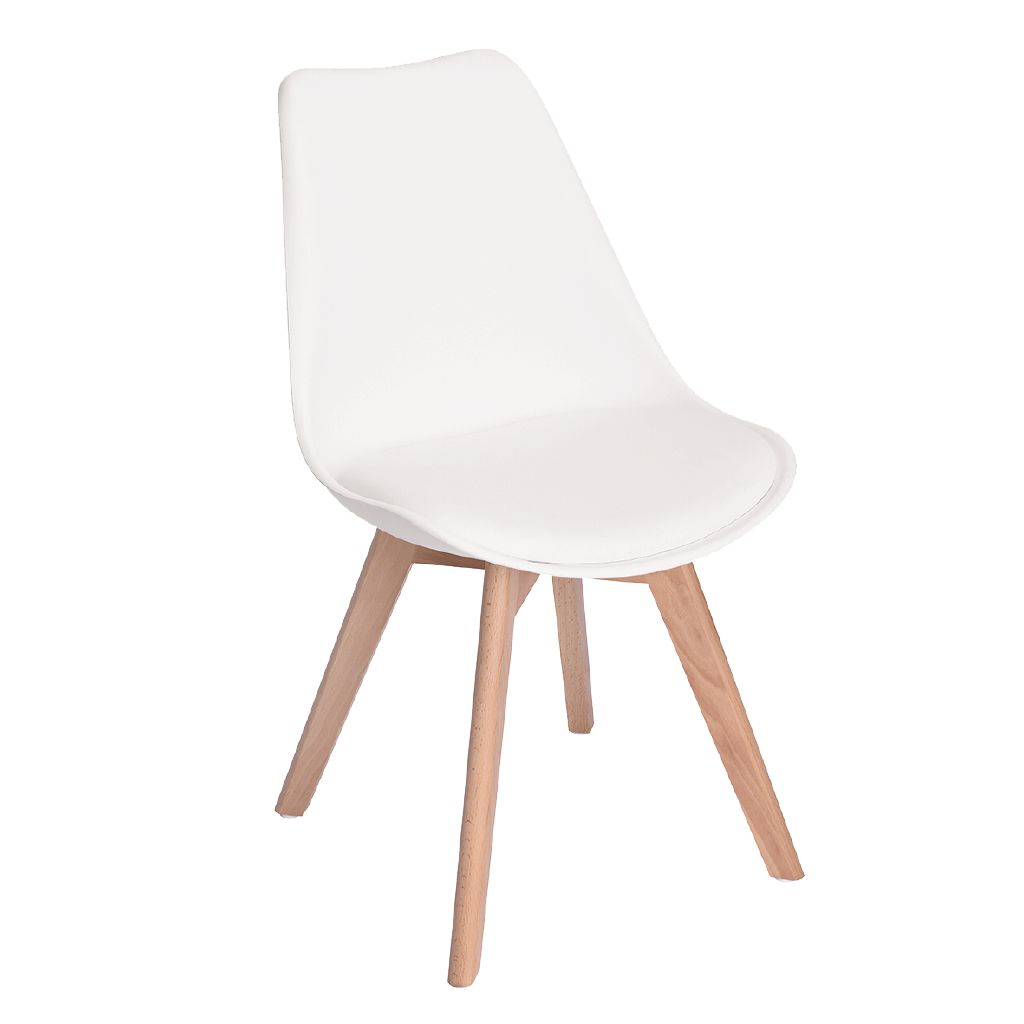kursi: (221, 1, 848, 1024)
